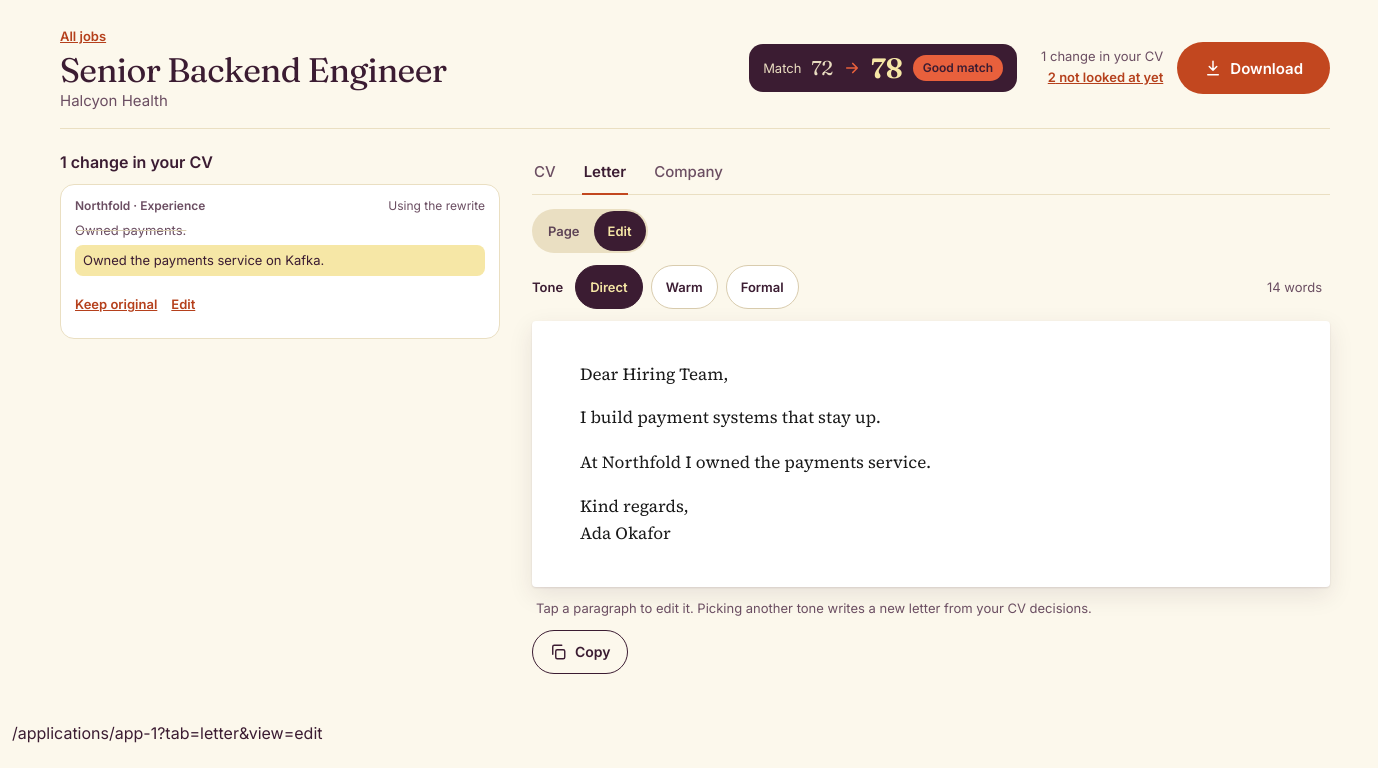
Test: Letter tab › rewrites in another tone through the API
Expected: the text "Dear Hiring Team," is shown, [580,362,728,386]
Expected: the text "14 words" is shown, [1267,278,1322,296]
Click the button "Warm" at (684, 287), box [651,265,718,309]
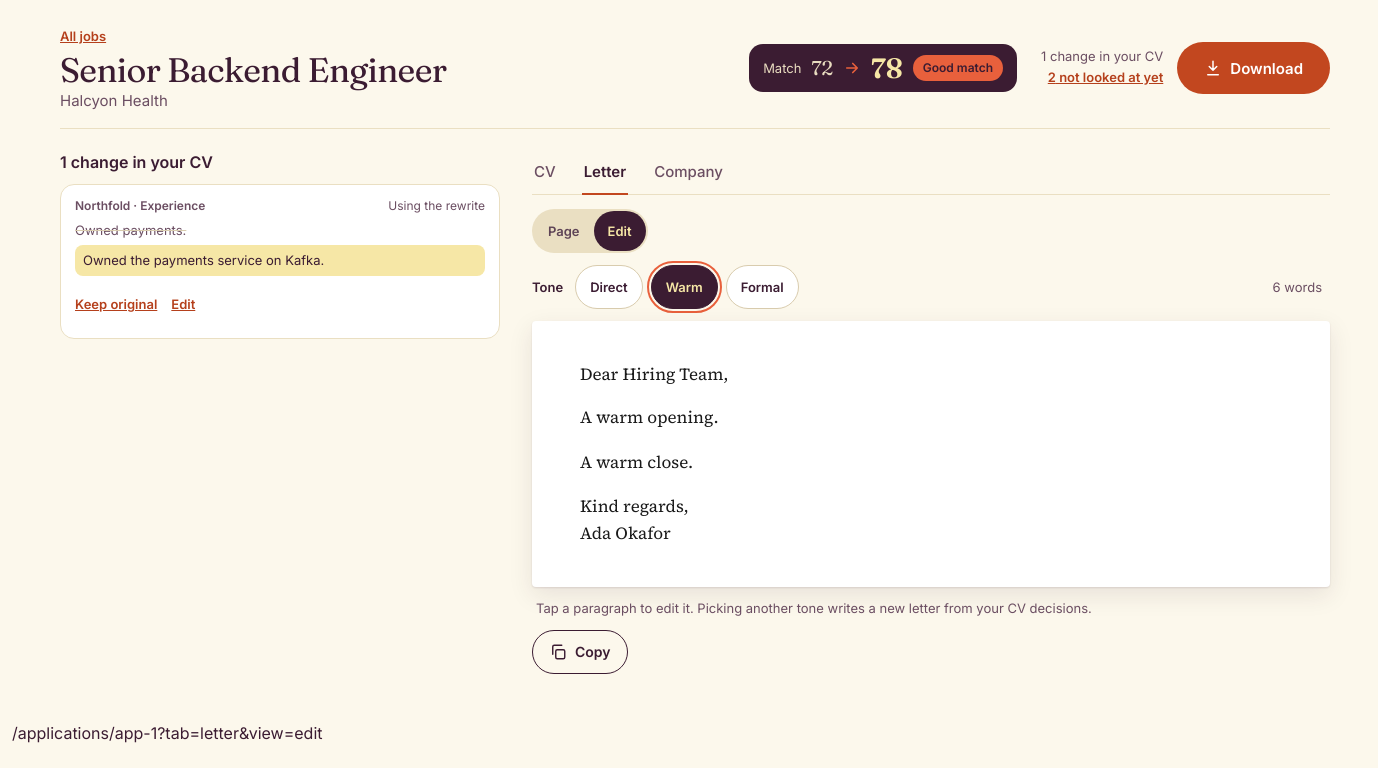
Expected: the button "A warm opening." is shown, [574,402,1288,433]
